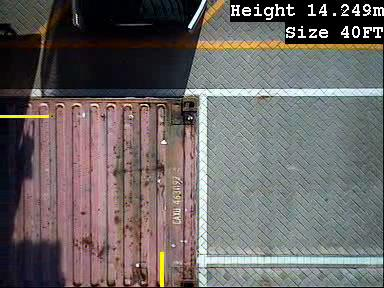groundmarker_2: (191, 148, 229, 172)
